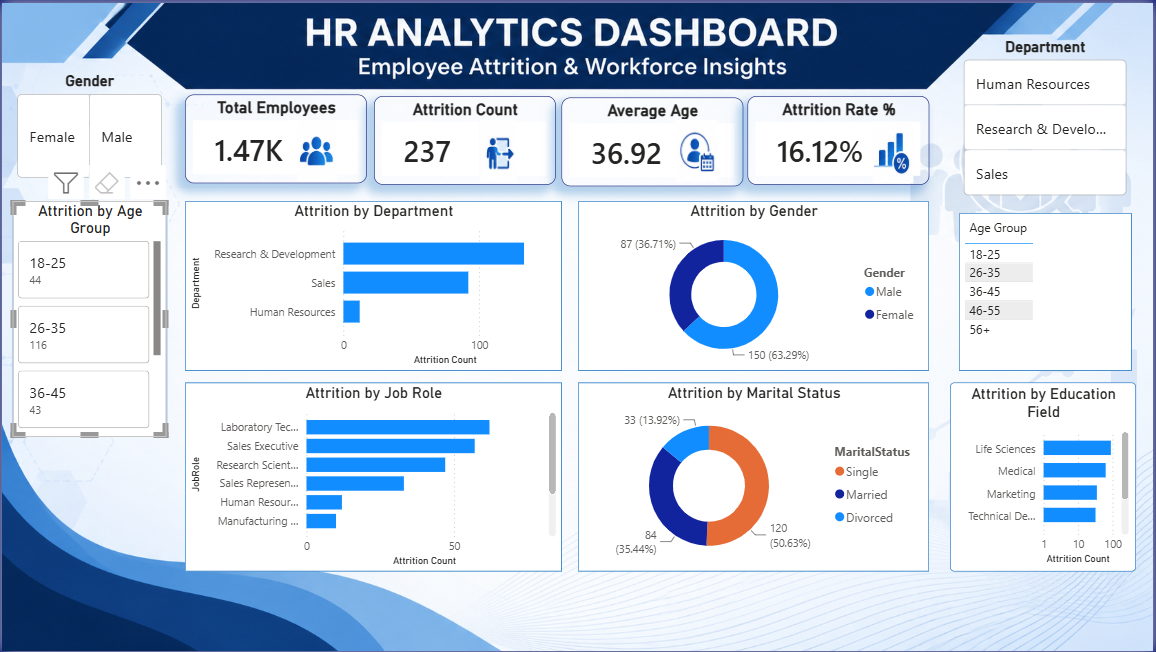

The page's visual inventory and layout, read from the dashboard file:
{"tool":"powerbi","page":{"name":"Page 1","canvas":[1280,720],"ordinal":0},"visuals":[{"type":"cardVisual","title":"Total Employees","fields":{"Data":["CountNonNull(HR-Employee-Attrition.EmployeeNumber)"]},"box":[203.3,101.7,202.2,98.3],"z":0},{"type":"cardVisual","title":"Attrition Count","fields":{"Data":["CountNonNull(HR-Employee-Attrition.EmployeeNumber)"]},"box":[413.3,103.3,201.7,98.3],"z":1000},{"type":"cardVisual","title":"Average Age","fields":{"Data":["Avg(HR-Employee-Attrition.Age)"]},"box":[621.7,105,201.7,98.3],"z":2000},{"type":"cardVisual","title":"Attrition Rate %","fields":{"Data":["HR-Employee-Attrition.Attrition Rate %"]},"box":[828.3,103.3,201.7,98.3],"z":3000},{"type":"advancedSlicerVisual","fields":{"Values":["HR-Employee-Attrition.Department"]},"box":[1063.3,38.3,191.7,181.7],"z":4000},{"type":"advancedSlicerVisual","fields":{"Values":["HR-Employee-Attrition.Gender"]},"box":[11.7,76.7,171.7,123.3],"z":5000},{"type":"clusteredBarChart","title":"Attrition by Department","fields":{"Category":["HR-Employee-Attrition.Department"],"Y":["CountNonNull(HR-Employee-Attrition.EmployeeNumber)"]},"box":[203.3,220,418.3,188.3],"z":6000},{"type":"donutChart","title":"Attrition by Gender","fields":{"Category":["HR-Employee-Attrition.Gender"],"Y":["CountNonNull(HR-Employee-Attrition.EmployeeNumber)"]},"box":[640,220,390,188.3],"z":7000},{"type":"clusteredBarChart","title":"Attrition by Job Role","fields":{"Category":["HR-Employee-Attrition.JobRole"],"Y":["CountNonNull(HR-Employee-Attrition.EmployeeNumber)"]},"box":[203.3,421.7,418.3,210],"z":8000},{"type":"donutChart","title":"Attrition by Marital Status","fields":{"Category":["HR-Employee-Attrition.MaritalStatus"],"Y":["CountNonNull(HR-Employee-Attrition.EmployeeNumber)"]},"box":[640,421.7,390,210],"z":9000},{"type":"advancedSlicerVisual","title":"Attrition by Age Group","fields":{"Values":["HR-Employee-Attrition.Age Group"],"Label":["CountNonNull(HR-Employee-Attrition.EmployeeNumber)"]},"box":[11.7,220,171.7,261.7],"z":10000},{"type":"tableEx","fields":{"Values":["HR-Employee-Attrition.Age Group"]},"box":[1063.3,233.3,191.7,175],"z":11000},{"type":"clusteredBarChart","title":"Attrition by Education Field","fields":{"Category":["HR-Employee-Attrition.EducationField"],"Y":["CountNonNull(HR-Employee-Attrition.EmployeeNumber)"]},"box":[1053.3,421.7,206.7,210],"z":12000}]}

Visuals, with their boxes in screenshot pixels (x1, y1, x2, y2), scaled from the page's 1280x720 canvas onto the 1156x652 screenshot:
"Total Employees" cardVisual: 184, 92, 366, 181
"Attrition Count" cardVisual: 373, 94, 555, 183
"Average Age" cardVisual: 561, 95, 744, 184
"Attrition Rate %" cardVisual: 748, 94, 930, 183
advancedSlicerVisual - HR-Employee-Attrition.Department: 960, 35, 1133, 199
advancedSlicerVisual - HR-Employee-Attrition.Gender: 11, 69, 166, 181
"Attrition by Department" clusteredBarChart: 184, 199, 561, 370
"Attrition by Gender" donutChart: 578, 199, 930, 370
"Attrition by Job Role" clusteredBarChart: 184, 382, 561, 572
"Attrition by Marital Status" donutChart: 578, 382, 930, 572
"Attrition by Age Group" advancedSlicerVisual: 11, 199, 166, 436
tableEx - HR-Employee-Attrition.Age Group: 960, 211, 1133, 370
"Attrition by Education Field" clusteredBarChart: 951, 382, 1138, 572
